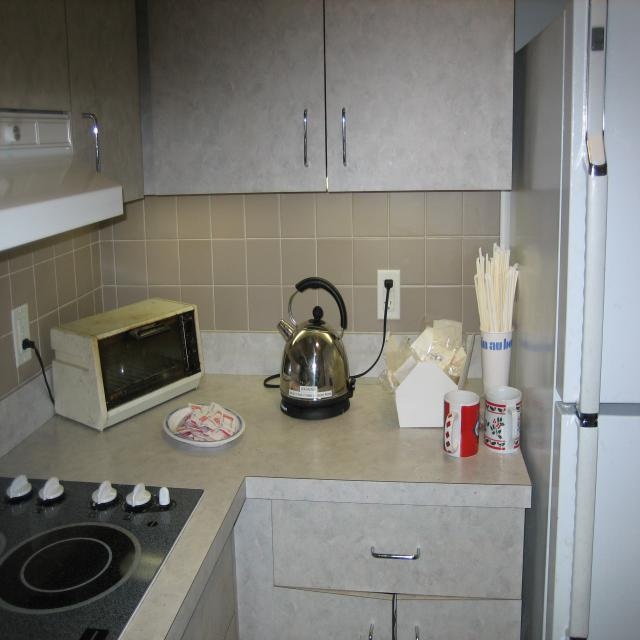coffee pot: (274, 273, 356, 408)
cupboard crop: (137, 3, 514, 196)
handle bar: (577, 141, 609, 419), (372, 540, 424, 561), (340, 101, 350, 168)
mug: (484, 386, 522, 454), (443, 390, 480, 458)
outlet: (11, 305, 31, 368), (377, 270, 400, 321)
plate food: (165, 401, 245, 449)
refrigerator: (508, 3, 639, 640)
stove burner: (1, 477, 202, 640)
toaster oven: (50, 293, 203, 425)
